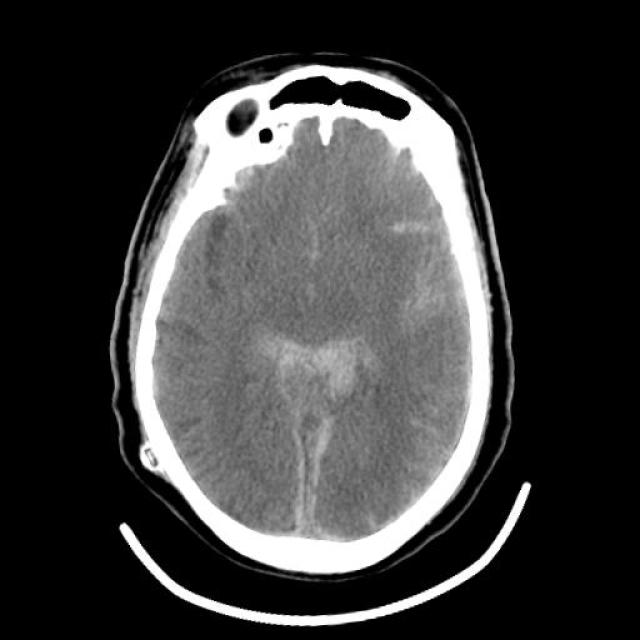Intraparenchymal: (236, 294, 403, 410)
Subarachnoid: (370, 196, 475, 249)
Subdural: (250, 415, 410, 555)
